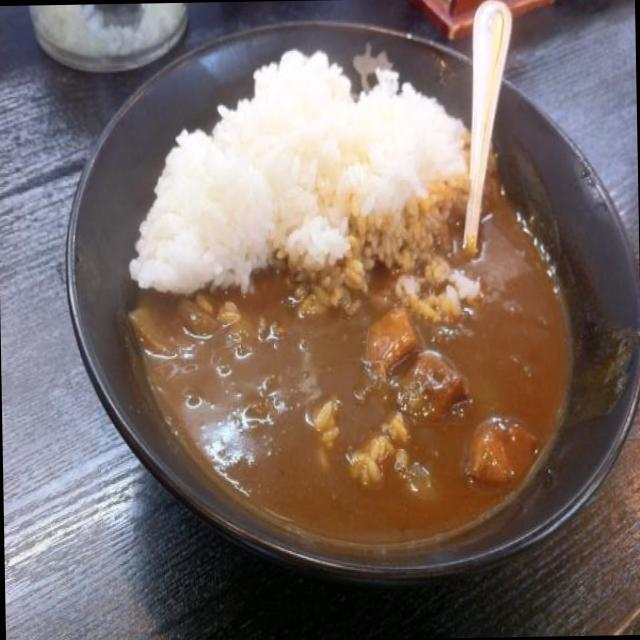Beef Curry: (144, 235, 596, 556)
Rice: (139, 40, 457, 288)
